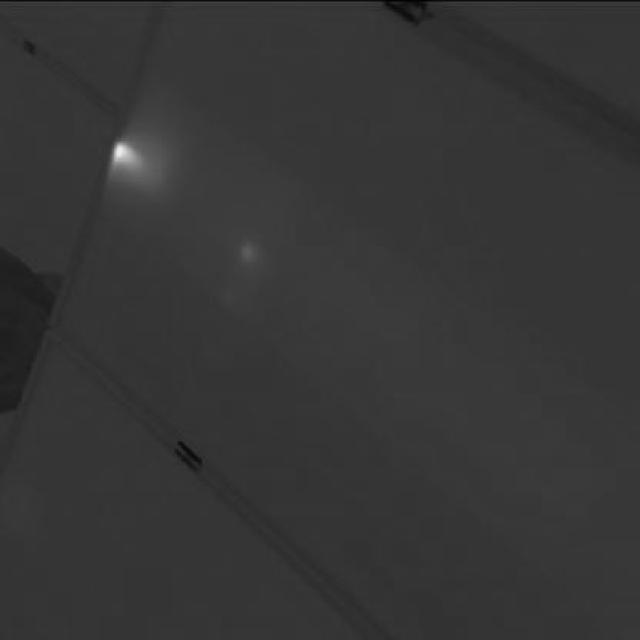hotspot: (102, 130, 155, 188)
